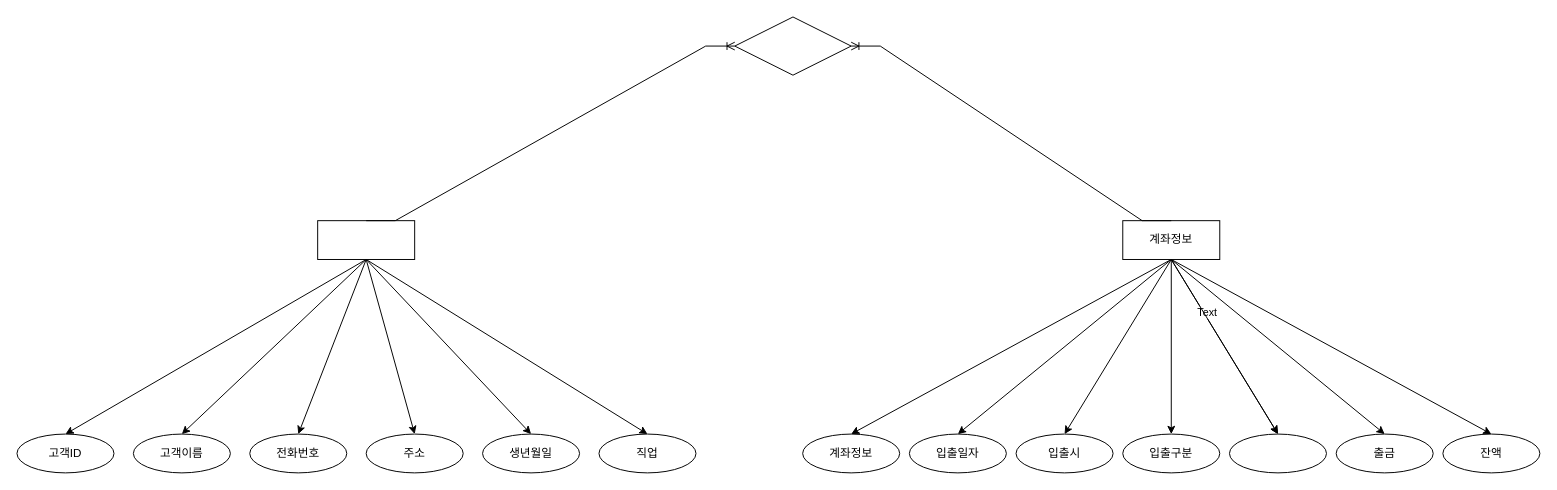
The diagram is 1557 pixels wide and 490 high, and some of its shapes have lost their labels. Each missing label, with the centre of its shape:
"거래내역" goes at point (792, 45).
"고객정보" goes at point (366, 239).
"입금" goes at point (1277, 453).
